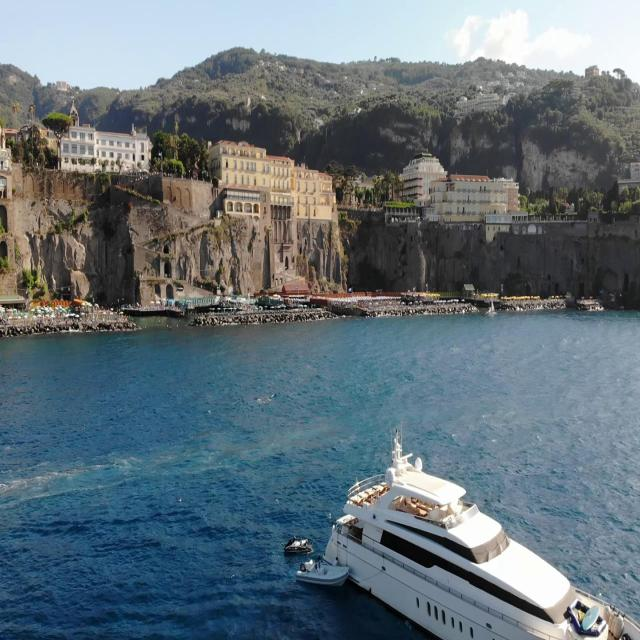boat: (324, 431, 638, 640), (298, 554, 346, 586), (287, 534, 309, 555)
